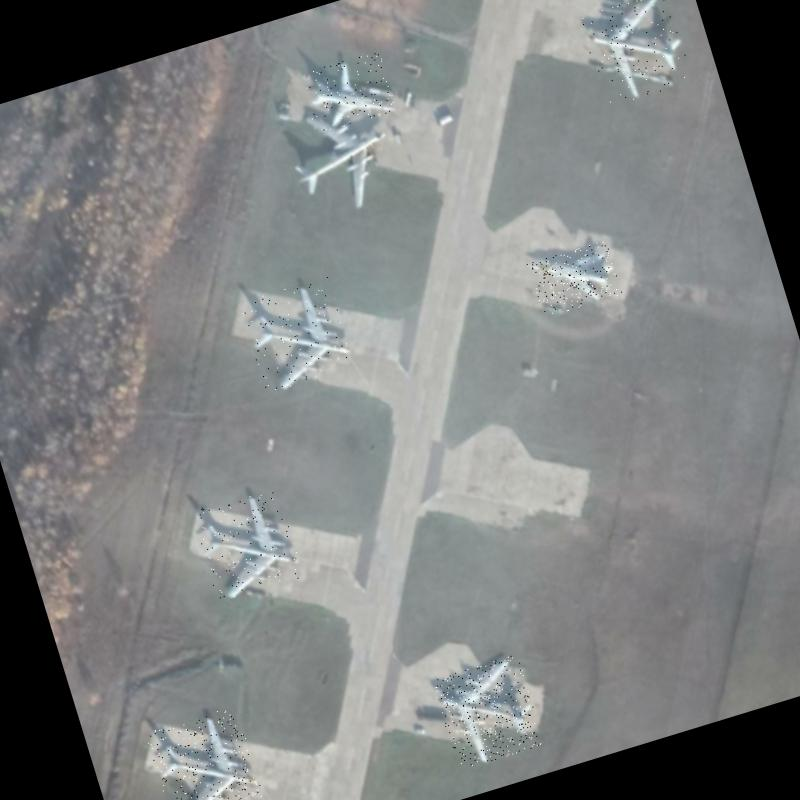A12: (298, 50, 398, 136), (527, 240, 623, 318)
A17: (277, 92, 405, 224), (239, 276, 356, 395), (188, 485, 304, 604), (431, 654, 545, 771), (578, 0, 694, 108), (145, 705, 264, 800)
